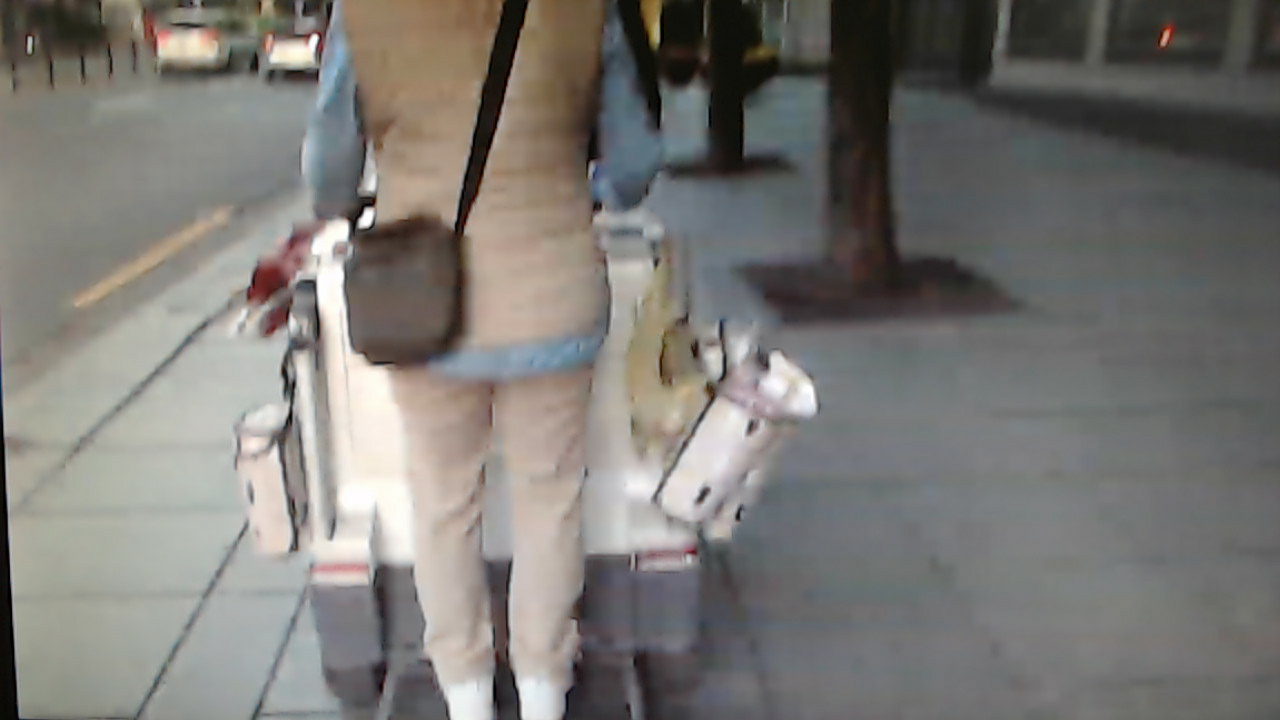Yakurut: (295, 5, 635, 720)
